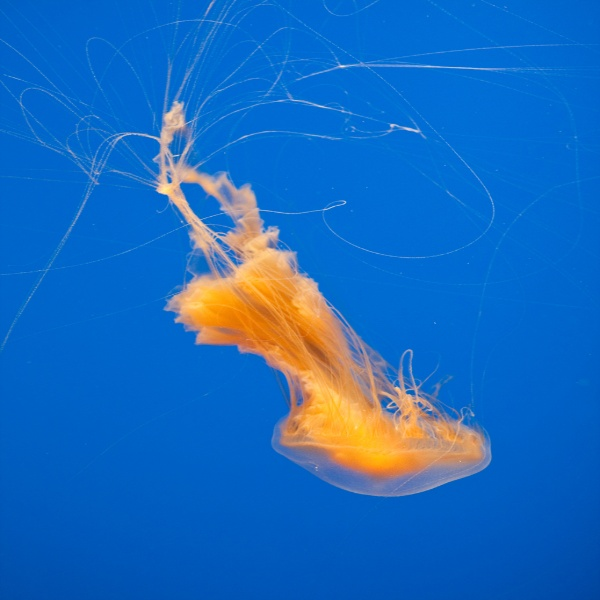Jellyfish: (0, 0, 599, 498)
